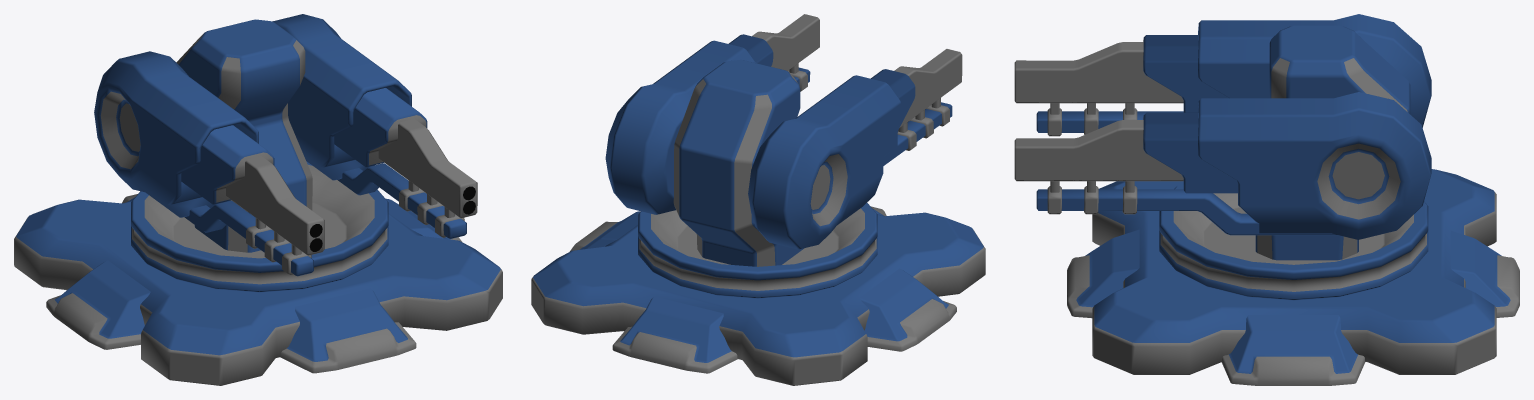
The model's file is Turret_Laser.FBX.
3 views of the same model, side by side, from view 1: azimuth 30°, elevation 25°; view 2: azimuth 150°, elevation 25°; view 3: azimuth 270°, elevation 25° (orthographic). The views are drawn at different scales.
Visible parts, largest first — view 1: Laser_Turret_Base, Laser_Turret_Tower03, Laser_Turret_Tower02, Laser_Turret_Tower, Laser_Turret_Leg (×3), Laser_Turret_Tower01; view 2: Laser_Turret_Base, Laser_Turret_Tower03, Laser_Turret_Tower01, Laser_Turret_Tower02, Laser_Turret_Leg (×3), Laser_Turret_Tower; view 3: Laser_Turret_Tower02, Laser_Turret_Base, Laser_Turret_Tower03, Laser_Turret_Leg (×3), Laser_Turret_Tower, Laser_Turret_Tower01.
Boxes of the visible parts, x1,y1,x2,y2 form: Laser_Turret_Base: [14, 199, 502, 385]; Laser_Turret_Tower03: [94, 51, 324, 276]; Laser_Turret_Tower02: [272, 14, 477, 238]; Laser_Turret_Tower: [131, 161, 388, 292]; Laser_Turret_Leg (×3): [46, 198, 461, 373]; Laser_Turret_Tower01: [176, 19, 312, 252]; Laser_Turret_Base: [531, 212, 985, 385]; Laser_Turret_Tower03: [748, 49, 962, 249]; Laser_Turret_Tower01: [673, 59, 803, 266]; Laser_Turret_Tower02: [605, 14, 819, 214]; Laser_Turret_Leg (×3): [569, 211, 956, 373]; Laser_Turret_Tower: [638, 202, 877, 298]; Laser_Turret_Tower02: [1014, 92, 1431, 239]; Laser_Turret_Base: [1092, 169, 1496, 374]; Laser_Turret_Tower03: [1014, 14, 1431, 136]; Laser_Turret_Leg (×3): [1067, 229, 1519, 385]; Laser_Turret_Tower: [1159, 183, 1428, 300]; Laser_Turret_Tower01: [1255, 25, 1410, 260].
Bounding box in the file's own units: 133 × 80.27 × 148.
